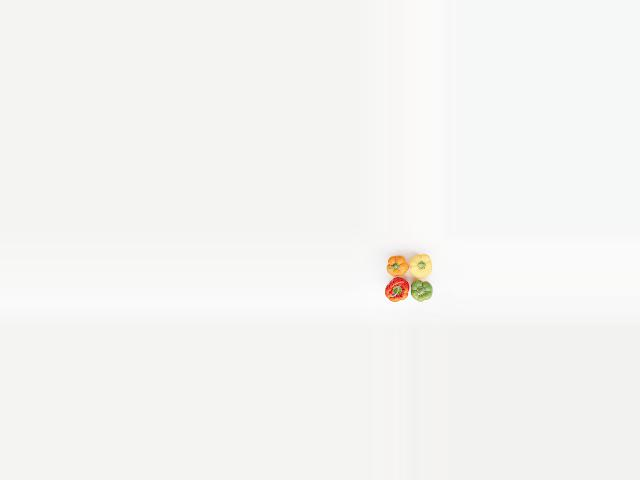bell_pepper: (405, 277, 439, 303)
